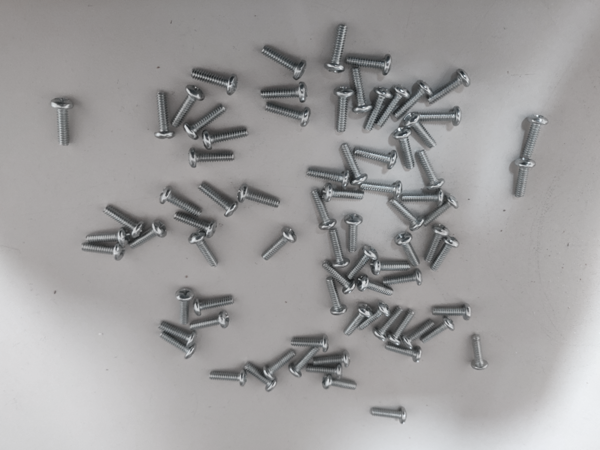shortscrew: (261, 46, 308, 81), (183, 103, 227, 140), (427, 68, 471, 105), (171, 86, 205, 130), (394, 80, 433, 118), (103, 205, 146, 239), (198, 183, 238, 218), (378, 85, 411, 127), (192, 68, 238, 97), (160, 187, 203, 218), (364, 87, 393, 132), (403, 112, 438, 149), (423, 192, 460, 227), (521, 114, 549, 159), (324, 24, 348, 74), (262, 227, 297, 261), (417, 150, 446, 191), (173, 211, 217, 238), (265, 102, 311, 127), (129, 220, 167, 250), (189, 230, 218, 269), (51, 98, 74, 147), (322, 261, 356, 294), (342, 143, 368, 186), (348, 245, 379, 281), (431, 234, 460, 272), (237, 184, 281, 209), (158, 321, 196, 349), (159, 332, 197, 360), (153, 92, 175, 140), (345, 54, 393, 76), (263, 350, 297, 381), (202, 128, 249, 150), (334, 87, 356, 134), (260, 82, 309, 103), (289, 346, 320, 379), (344, 302, 373, 337), (375, 306, 404, 341), (388, 310, 416, 346), (420, 316, 456, 344), (312, 190, 337, 230), (357, 302, 390, 332), (394, 127, 417, 170), (352, 67, 373, 114), (394, 231, 421, 267), (353, 148, 397, 170), (245, 363, 278, 392), (402, 320, 435, 349), (189, 148, 236, 168), (426, 225, 450, 263), (193, 295, 235, 316), (514, 158, 536, 198), (306, 168, 350, 188), (325, 277, 348, 315), (81, 242, 126, 261), (86, 229, 130, 248), (421, 106, 462, 126), (175, 287, 196, 326), (329, 230, 350, 269), (360, 180, 403, 199), (322, 184, 365, 203), (190, 311, 230, 331), (344, 214, 364, 253), (357, 275, 395, 295), (370, 406, 408, 425), (470, 334, 490, 370), (290, 335, 330, 353), (313, 350, 350, 369), (433, 304, 471, 322), (383, 270, 423, 287), (402, 190, 444, 206), (370, 259, 412, 275), (209, 370, 248, 387), (385, 346, 424, 363), (323, 375, 358, 391), (306, 365, 344, 379)
